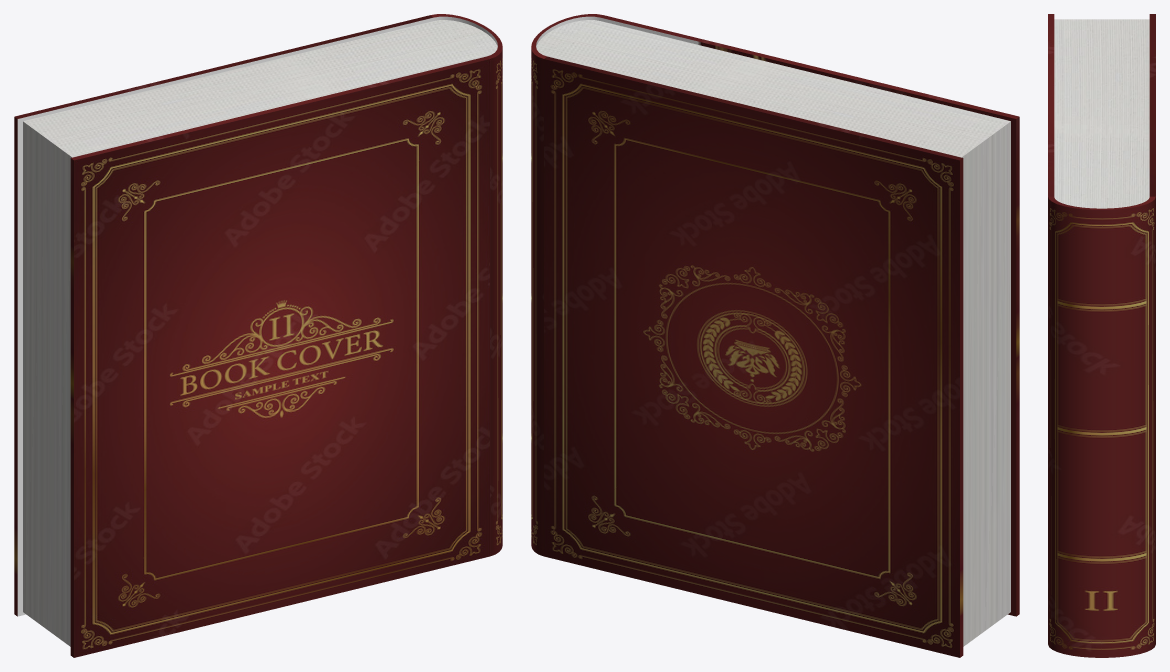
Rendered from book.fbx.
The picture shows the model from 3 angles, left to right: view 1: azimuth 30°, elevation 25°; view 2: azimuth 150°, elevation 25°; view 3: azimuth 270°, elevation 25°; orthographic projection. The views are drawn at different scales.
Visible parts, largest first — view 1: Cylinder; view 2: Cylinder; view 3: Cylinder.
Part boxes in pixels (x1,y1,x2,y2): Cylinder: (14, 14, 502, 657); Cylinder: (531, 14, 1019, 657); Cylinder: (1048, 14, 1155, 657).
Bounding box in the file's own units: 861 × 917 × 200.
Materials: 2 (2 with a texture image).
